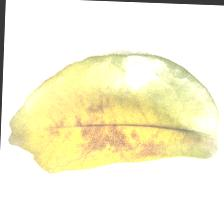black spot: (58, 98, 167, 174)
